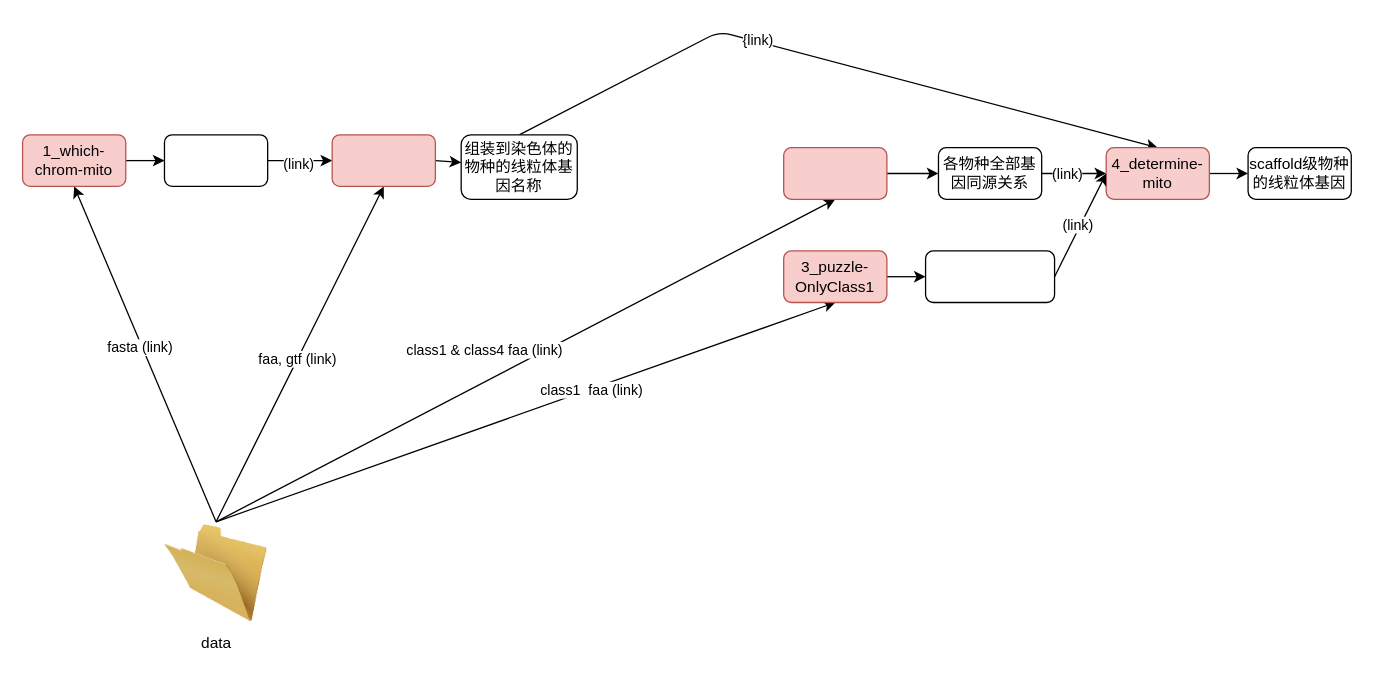
Some shapes in this 1374 by 675 pixel diagram are drawn without their labels. Each missing label, with the box of its shape:
2_find-mito-gene: (331, 134, 435, 186)
3_run-orthofinder: (782, 146, 887, 199)
Class1物种全部基因同源关系: (924, 250, 1055, 303)
各物种哪条染色体对应线粒体: (163, 134, 268, 186)
